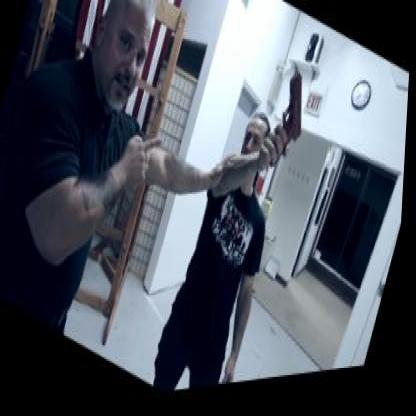pistol: (268, 70, 316, 188)
